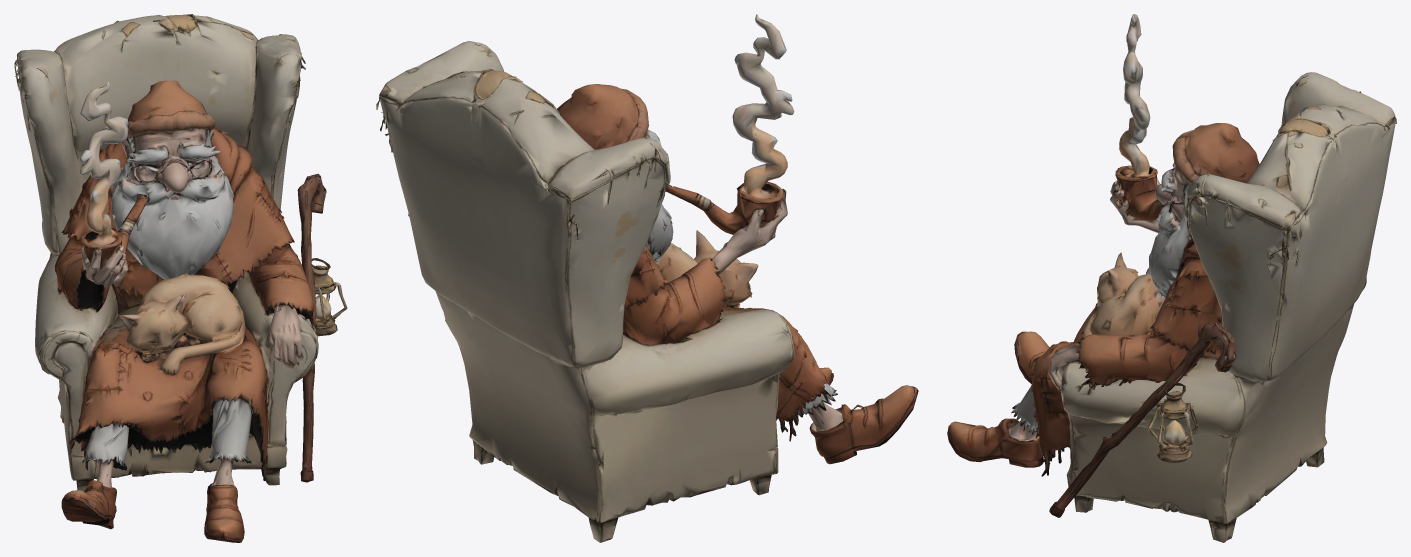
The model's file is chr_keeper_idle_a_v1.glb.
3 views of the same model, side by side, from view 1: azimuth 30°, elevation 25°; view 2: azimuth 150°, elevation 25°; view 3: azimuth 270°, elevation 25° (orthographic). The views are drawn at different scales.
Visible parts, largest first — view 1: tripo_node_0422659b-702a-40c3-b658-07cc304dfada; view 2: tripo_node_0422659b-702a-40c3-b658-07cc304dfada; view 3: tripo_node_0422659b-702a-40c3-b658-07cc304dfada.
Part boxes in pixels (<box>): tripo_node_0422659b-702a-40c3-b658-07cc304dfada: <box>14,14,347,542</box>; tripo_node_0422659b-702a-40c3-b658-07cc304dfada: <box>376,14,918,542</box>; tripo_node_0422659b-702a-40c3-b658-07cc304dfada: <box>947,14,1396,542</box>.
Bounding box in the file's own units: 0.8763 × 0.9786 × 0.9362.
1 material, 1 textured.
